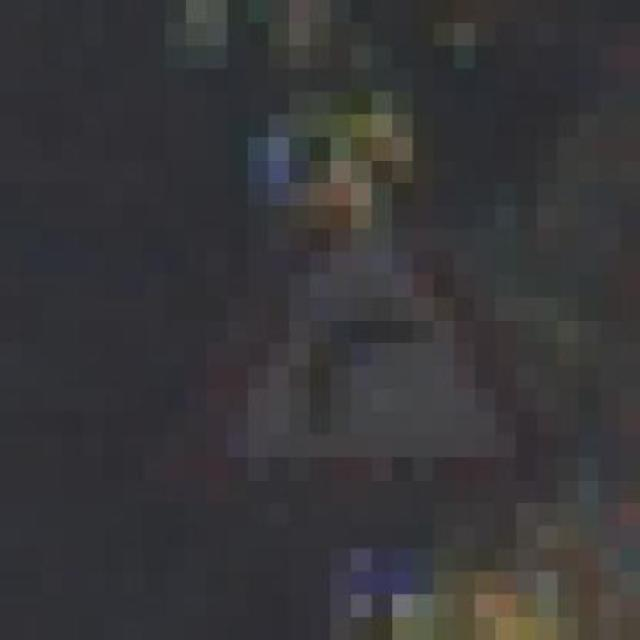Dangerous Rright Curve Ahead: (156, 160, 570, 526)
